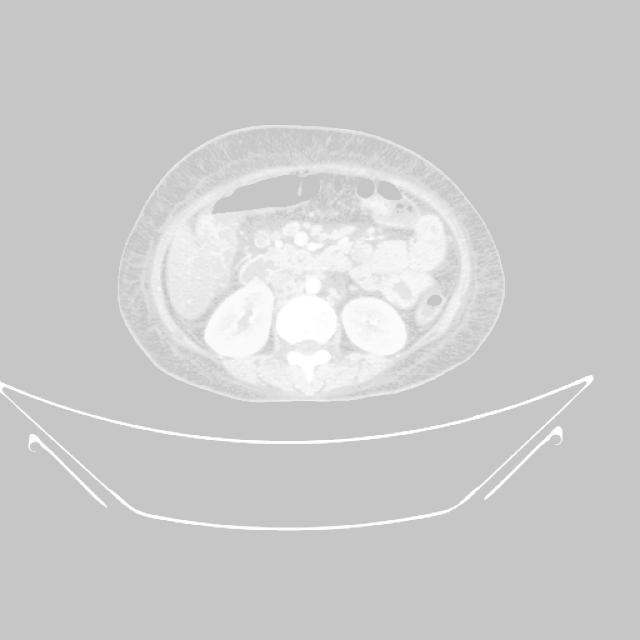NORMAL: (118, 107, 509, 431)
